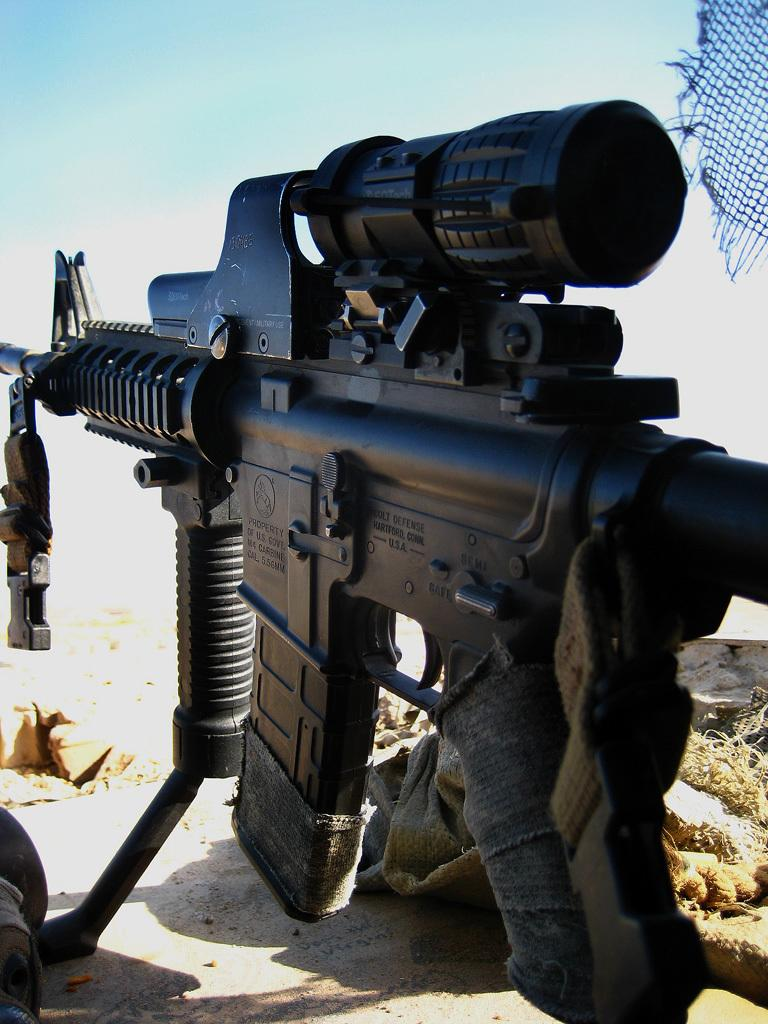Rifle: (0, 95, 767, 1023)
